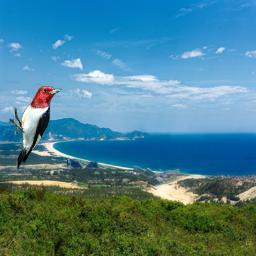Woodpecker: (8, 86, 63, 173)
